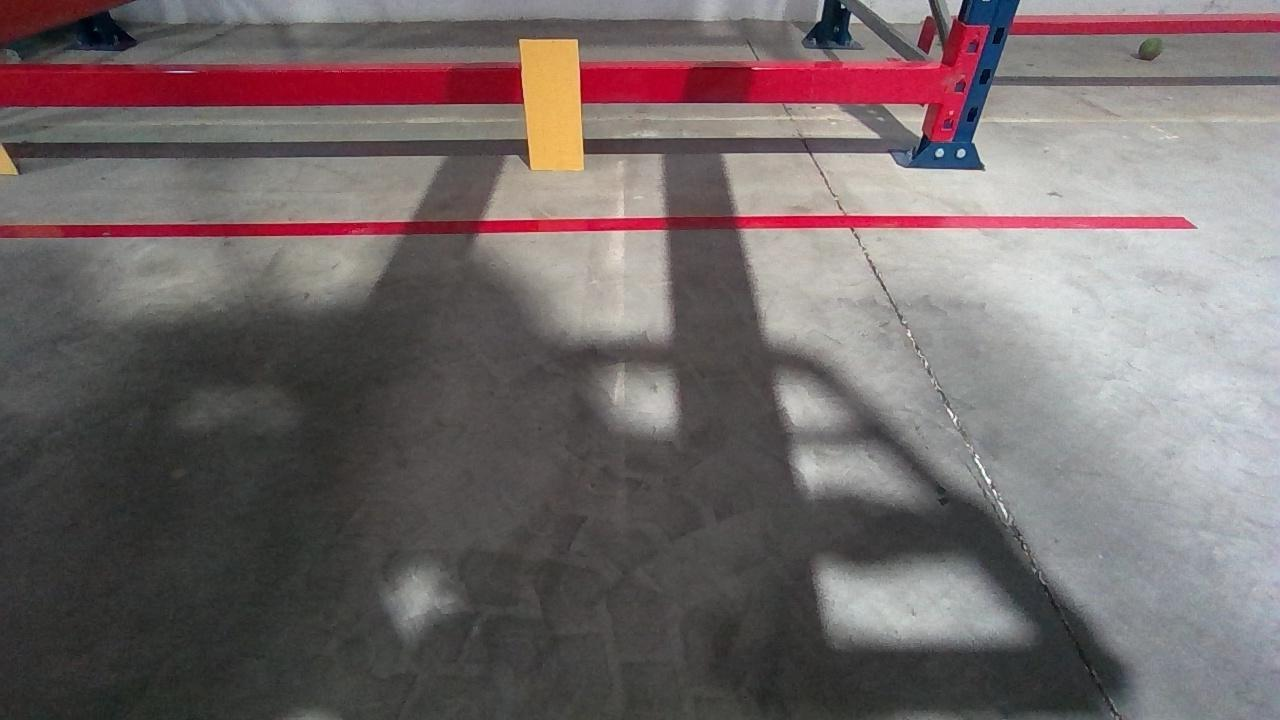h_rack: (2, 66, 956, 106)
orange_strip: (519, 38, 584, 168)
red_line: (5, 218, 1188, 234)
